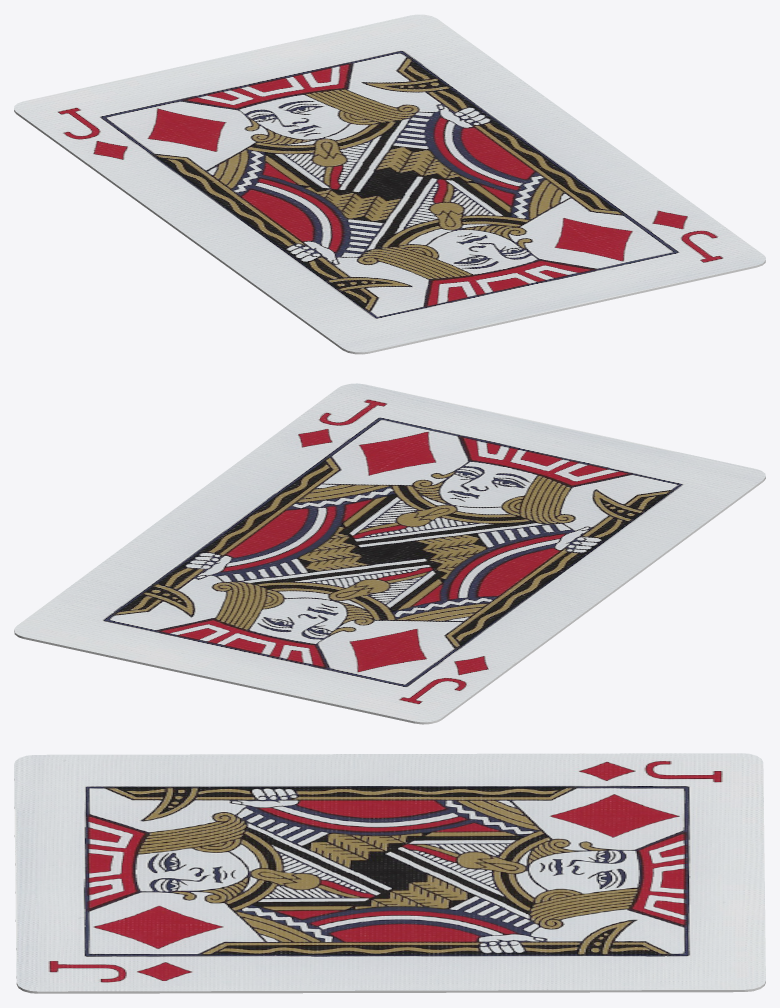
File: diamondsJ.fbx
3 views of the same model, one above another, from view 1: azimuth 30°, elevation 25°; view 2: azimuth 150°, elevation 25°; view 3: azimuth 270°, elevation 25° (orthographic). The views are drawn at different scales.
Parts seen in each view (by area): view 1: Diamonds_J_5; view 2: Diamonds_J_5; view 3: Diamonds_J_5.
Boxes of the visible parts, x1,y1,x2,y2 form: Diamonds_J_5: (14,14,765,354); Diamonds_J_5: (14,383,765,724); Diamonds_J_5: (14,753,765,993).
Size of the model in its own units: 6.3 by 0.1786 by 8.83.
